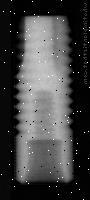DENTSPLY: (14, 13, 75, 184)
